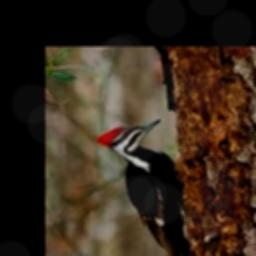Woodpecker: (98, 119, 191, 256)
